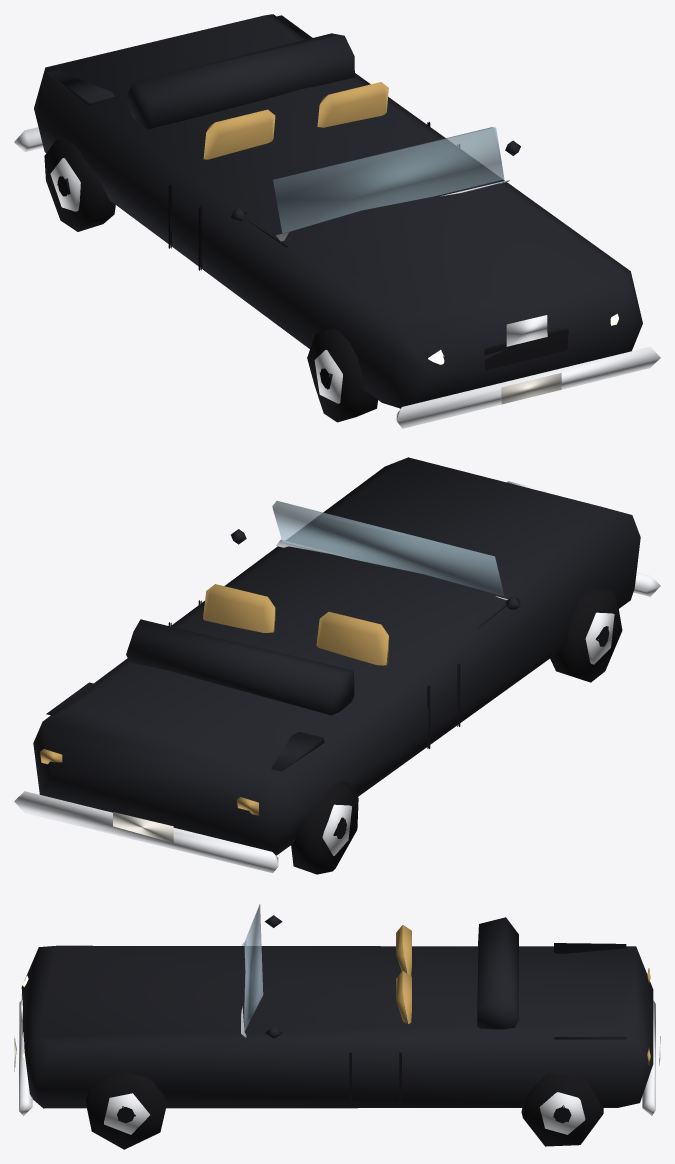
File: lod_car_convertible.glb
3 renders of one model, top to bottom at view 1: azimuth 30°, elevation 25°; view 2: azimuth 150°, elevation 25°; view 3: azimuth 270°, elevation 25°, orthographic. The views are drawn at different scales.
Visible parts, largest first — view 1: car_convertible; view 2: car_convertible; view 3: car_convertible.
Part boxes in pixels (box(x1,y1,x2,y2)): car_convertible: box(14, 14, 660, 428); car_convertible: box(14, 457, 660, 874); car_convertible: box(14, 904, 660, 1149).
Size of the model in its own units: 2.1 by 1.23 by 4.86.
